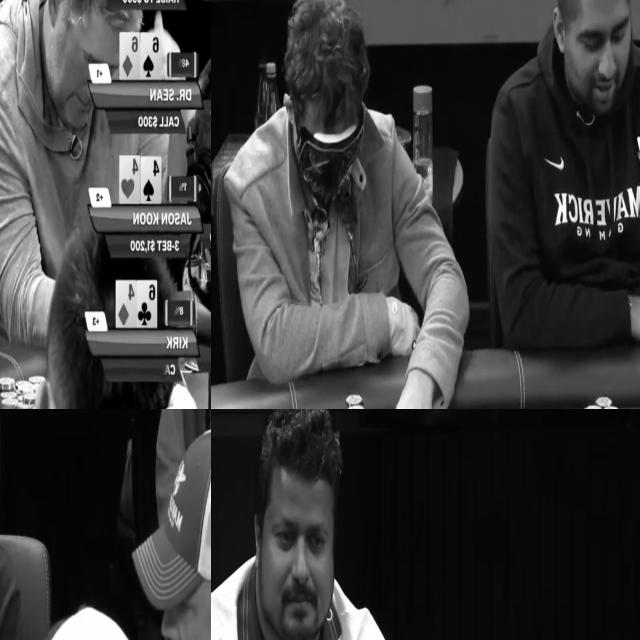4D: (116, 281, 136, 326)
4H: (118, 156, 140, 203)
4S: (140, 158, 162, 202)
6C: (136, 280, 157, 326)
6D: (120, 32, 140, 79)
6S: (140, 31, 162, 79)
